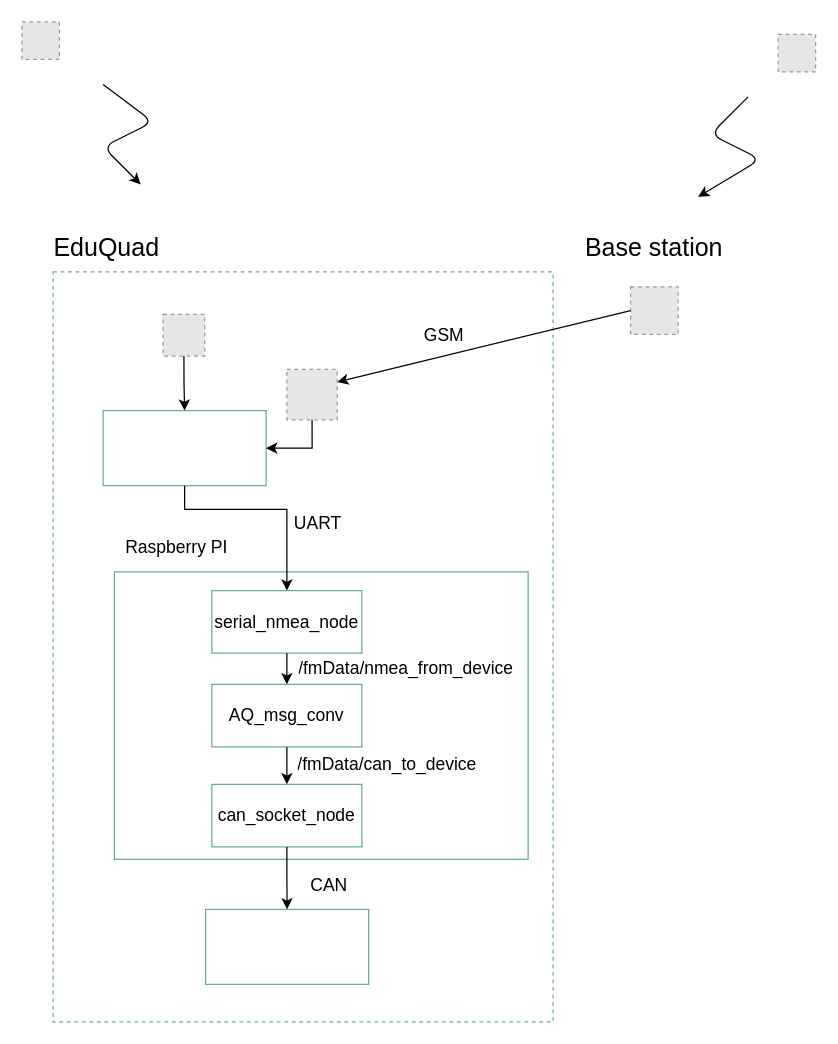
Some shapes in this 838 by 1044 pixel diagram are drawn without their labels. Grey dashed boxes stand in for pictures. Each missing label, with the box of its shape:
AQ M4: (204, 908, 369, 984)
RTK GPS: (102, 409, 266, 486)
